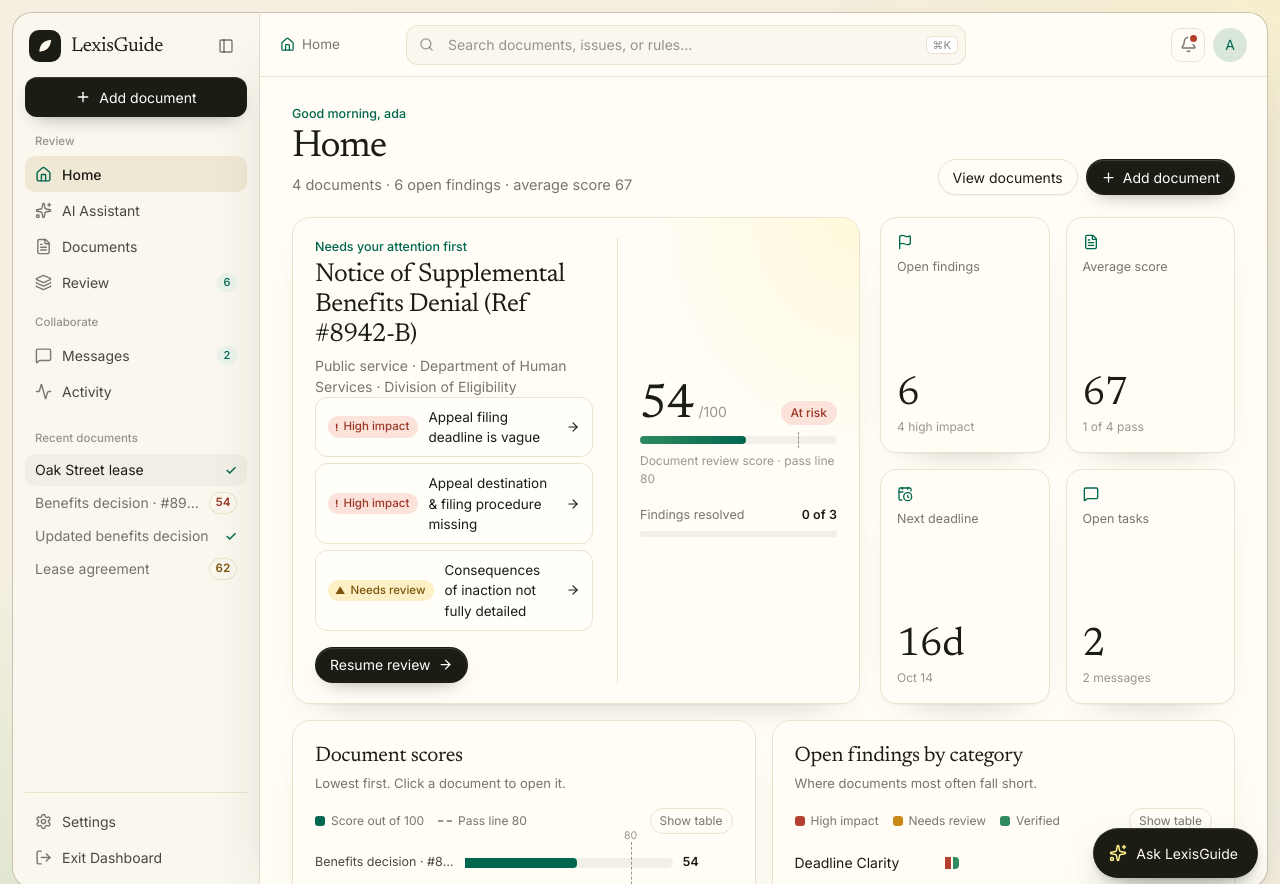
it: Saved workspace › saves an edit shortly after it is made
Click the button "Review 6". click: [136, 282]
box: [25,264,247,300]
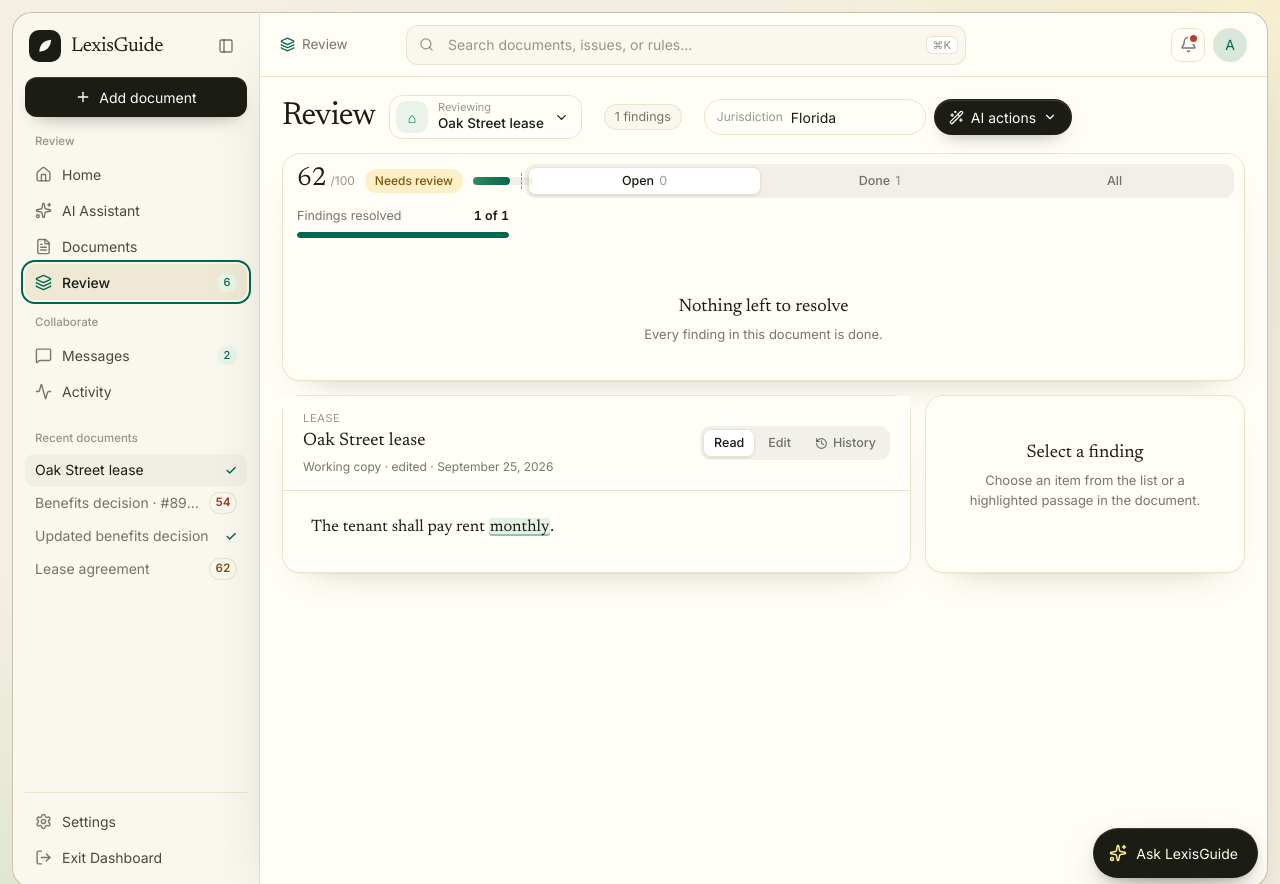
Click the button "Edit". click: [780, 443]
box: [757,429,802,457]
(page scrolled)
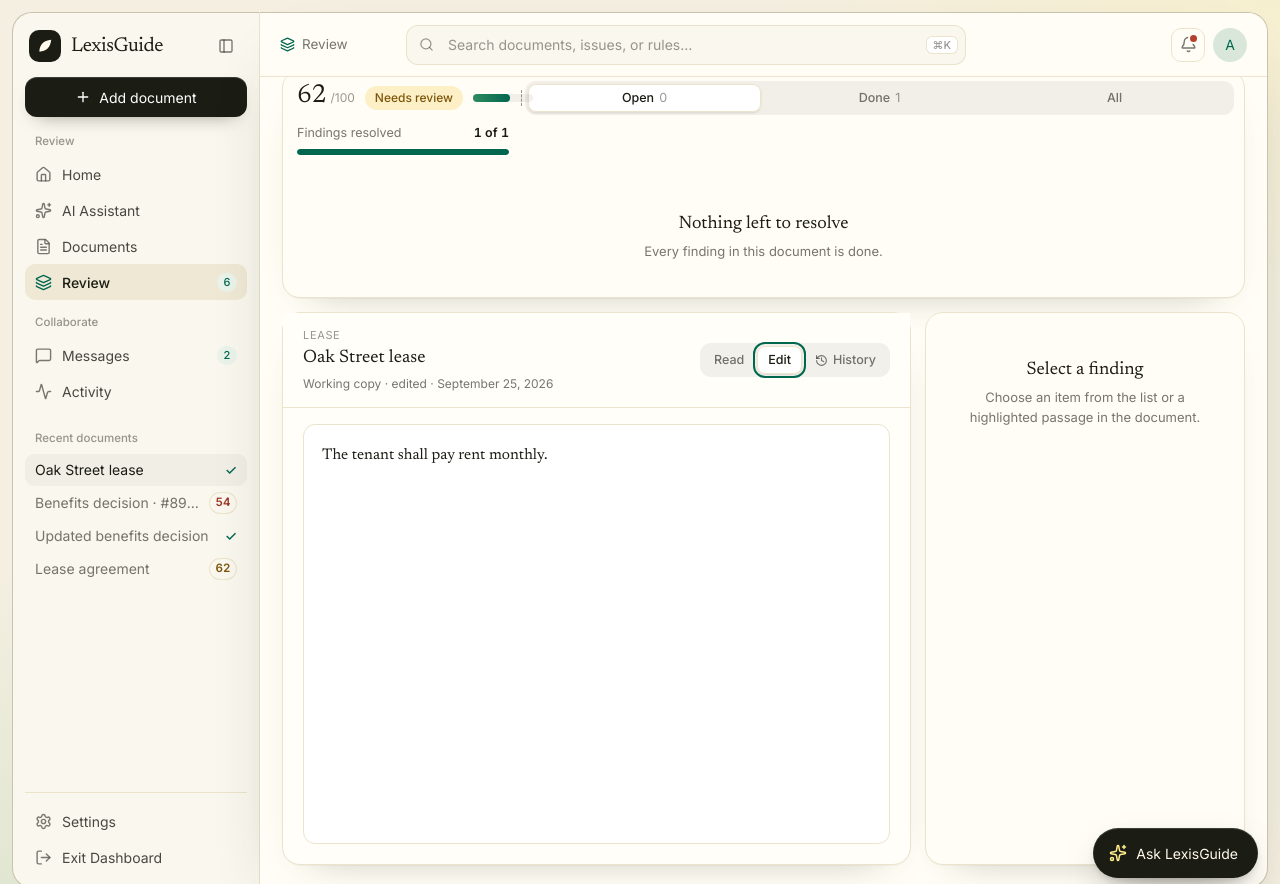
Type " Late fees apply." into the text box named "Edit document text". click: [596, 634]
box: [303,424,890,844]
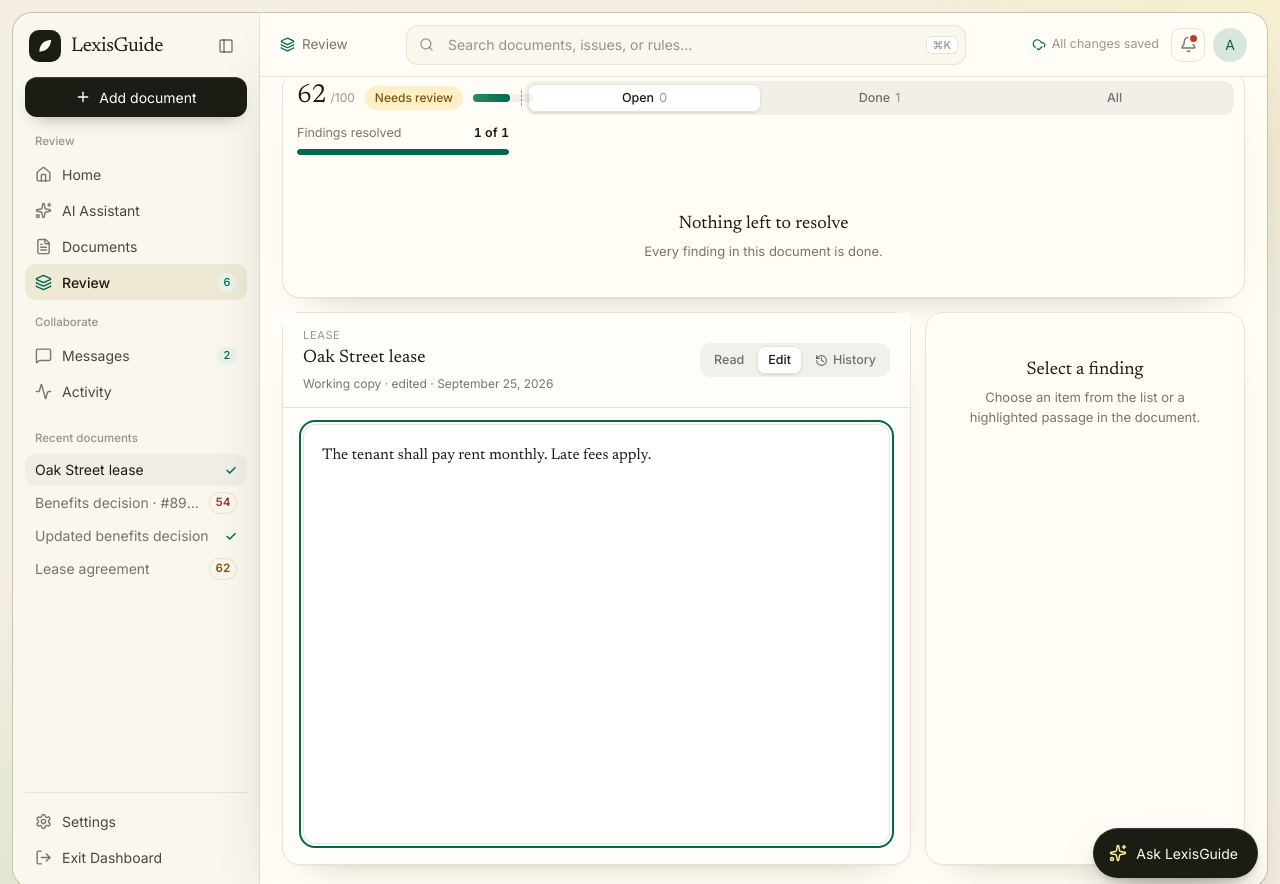
Expected: the text "All changes saved" is shown, [1032,35,1159,54]
